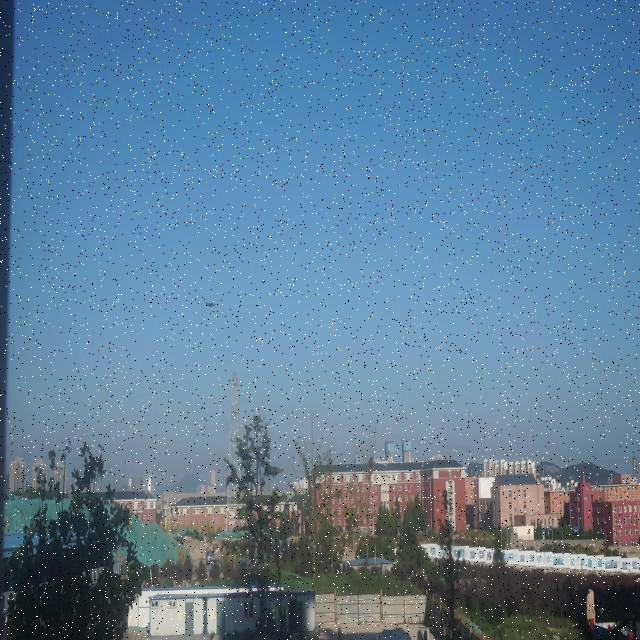UAV: (205, 302, 216, 307)
